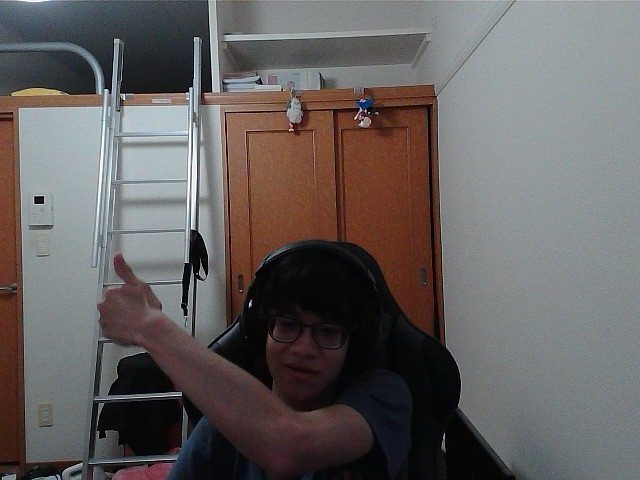thumb_up: (102, 258, 148, 331)
